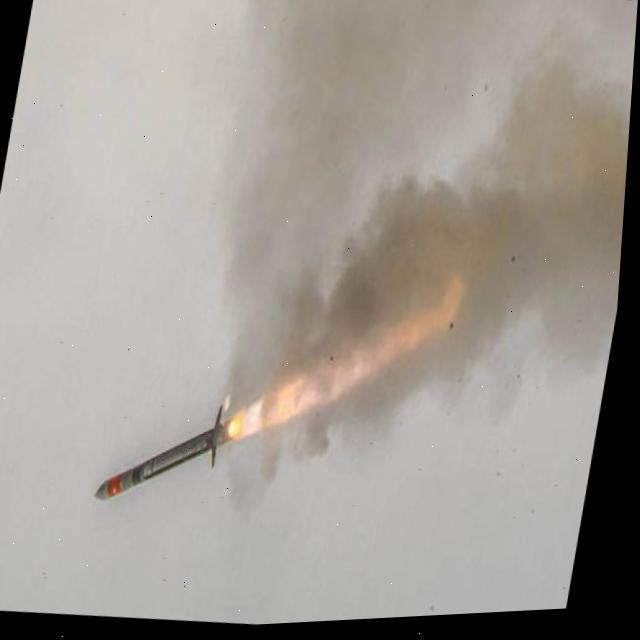missile: (94, 398, 241, 522)
